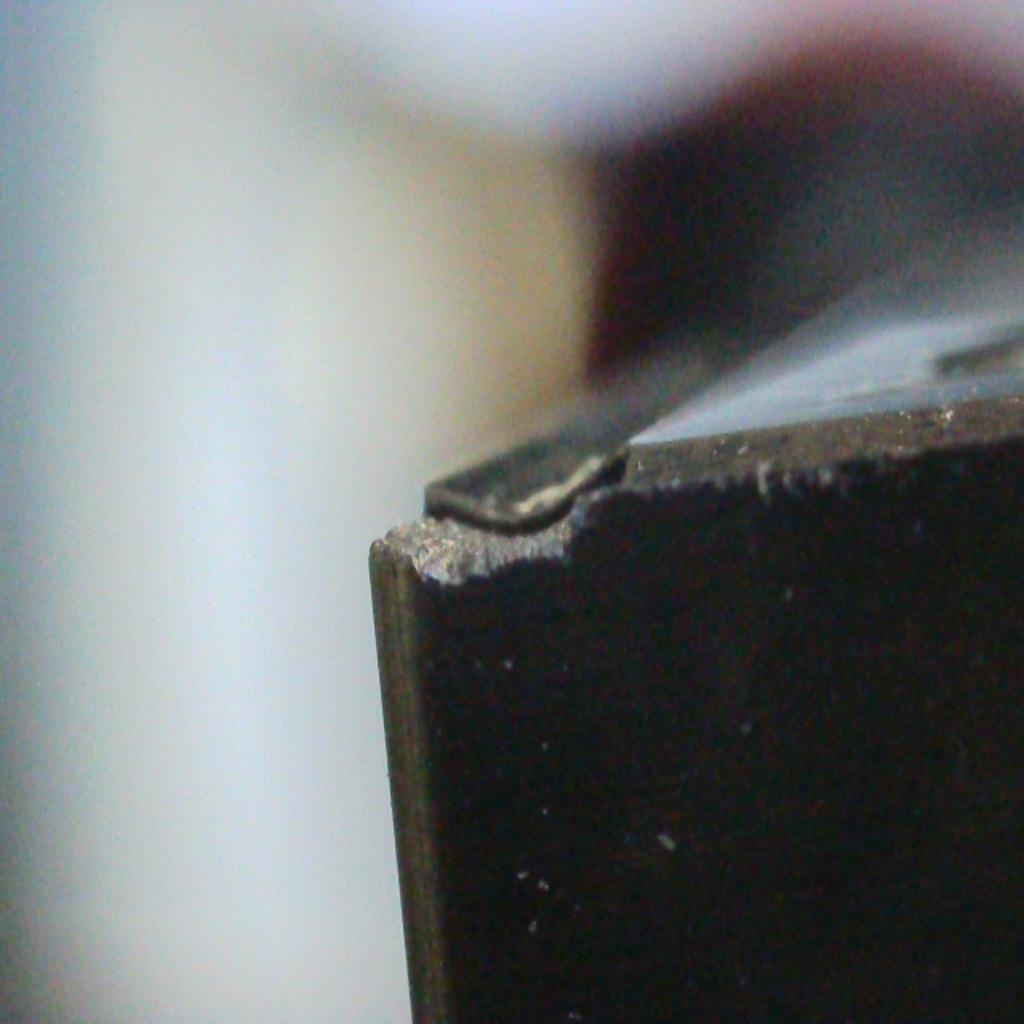flank_wear: (406, 544, 578, 597)
